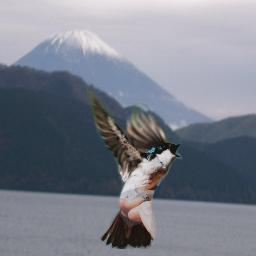Swallow: (84, 85, 183, 249)
